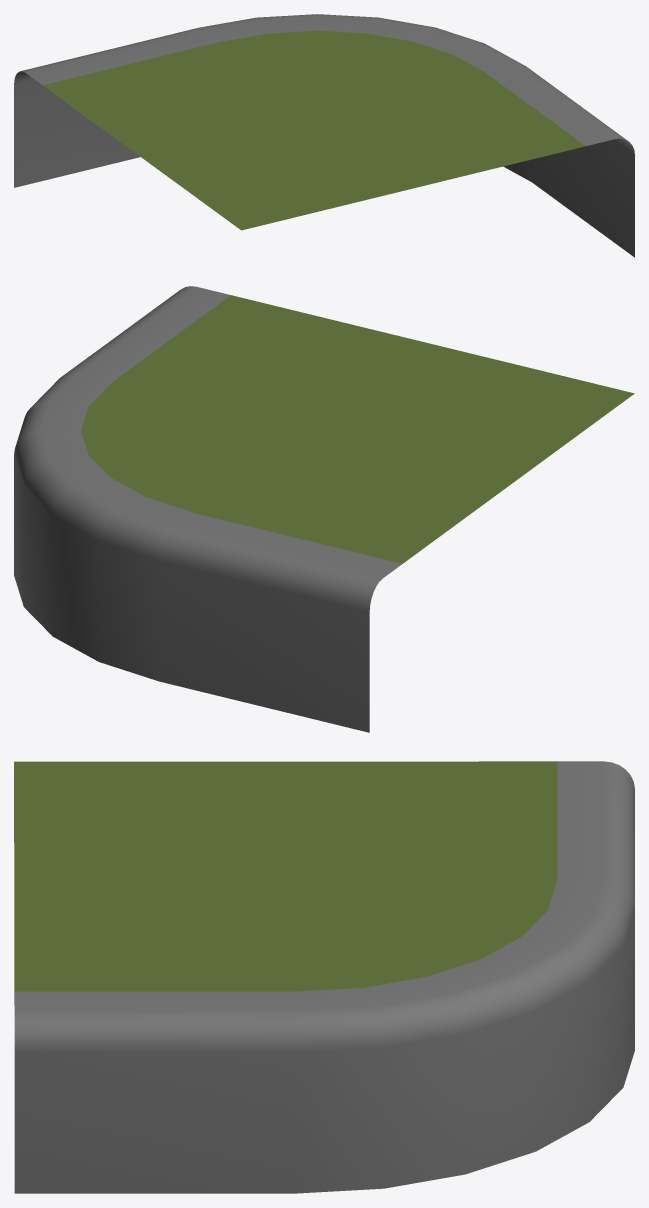
Rendered from ParkingLot_Mound_Corner.fbx.
The picture shows the model from 3 angles, top to bottom: view 1: azimuth 30°, elevation 25°; view 2: azimuth 150°, elevation 25°; view 3: azimuth 270°, elevation 25°; orthographic projection. The views are drawn at different scales.
Parts seen in each view (by area): view 1: Side_Corner; view 2: Side_Corner; view 3: Side_Corner.
Boxes of the visible parts, x1,y1,x2,y2 form: Side_Corner: [14, 14, 634, 257]; Side_Corner: [14, 286, 634, 732]; Side_Corner: [14, 761, 634, 1193].
Size of the model in its own units: 100 by 30 by 99.92.
